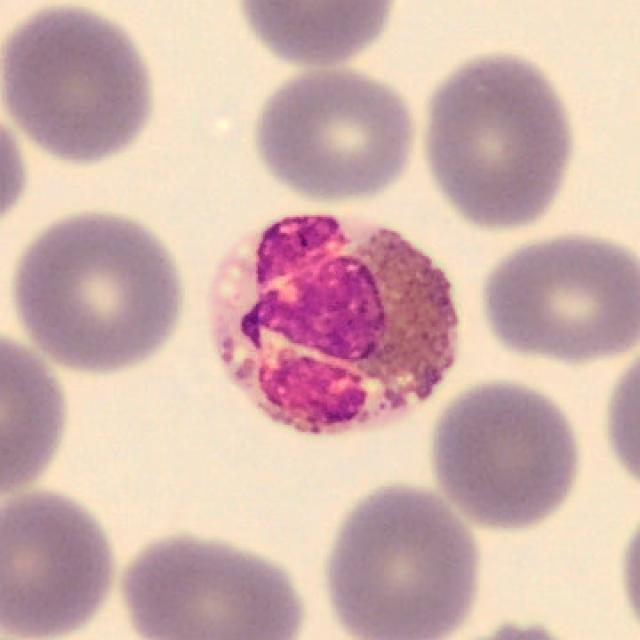Eosinofilo: (208, 215, 459, 434)
